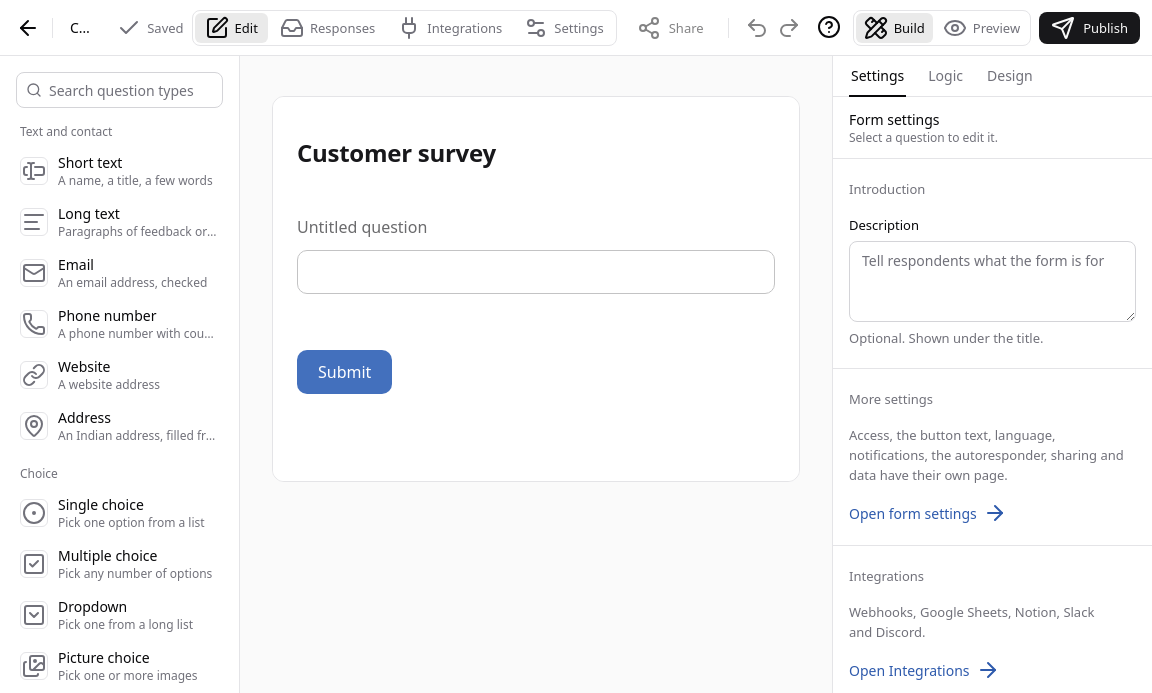
Scenario: EditorPage › autosaves a moment after changes stop, then shows Saved
Clear the field named "Form title": (83, 28) [61, 12, 105, 44]
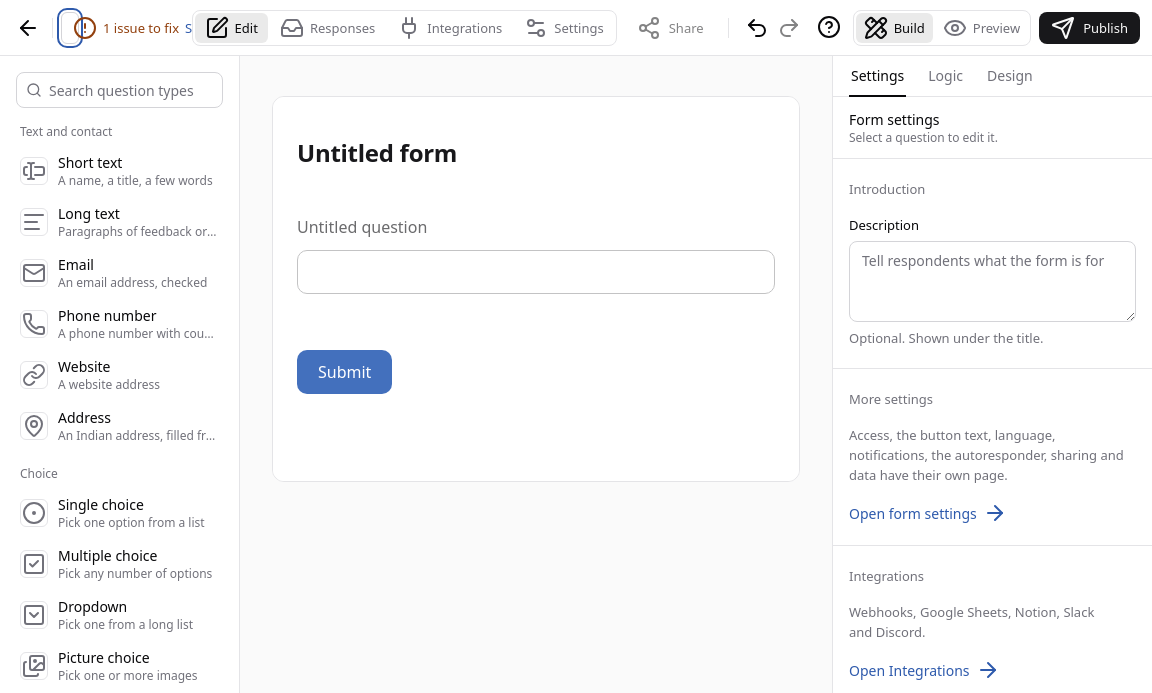
In the field named "Form title": (70, 28) [61, 12, 79, 44], type "Onboarding"
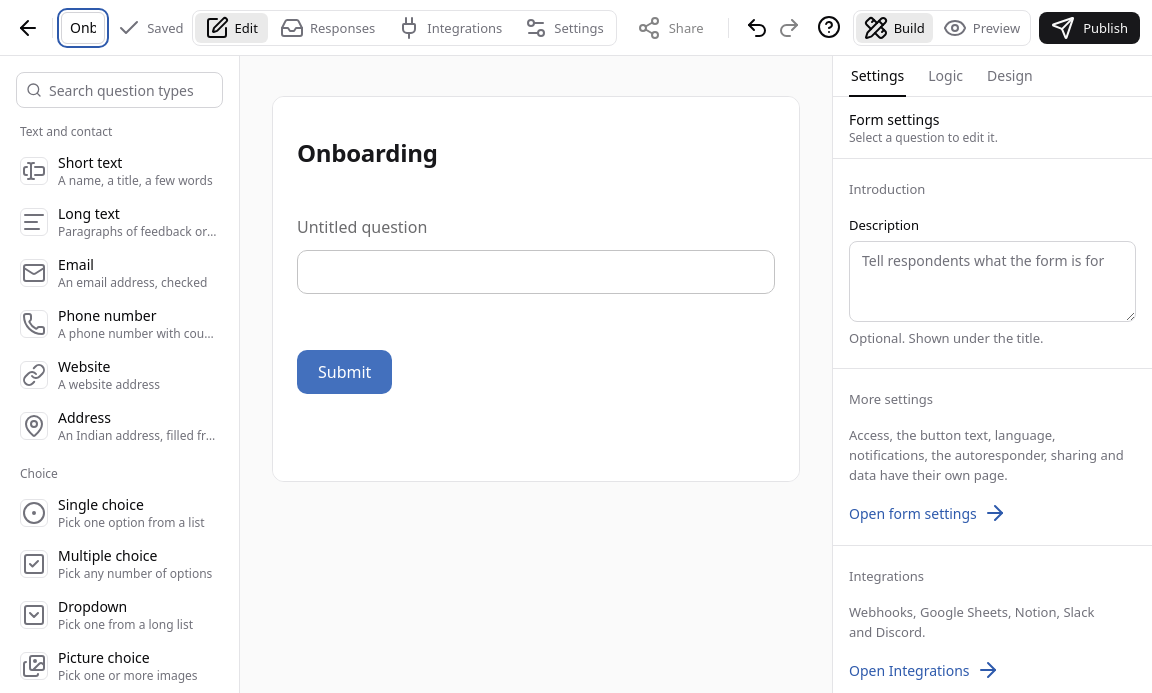
Check: the text "Saved" is shown, box [147, 18, 184, 38]
